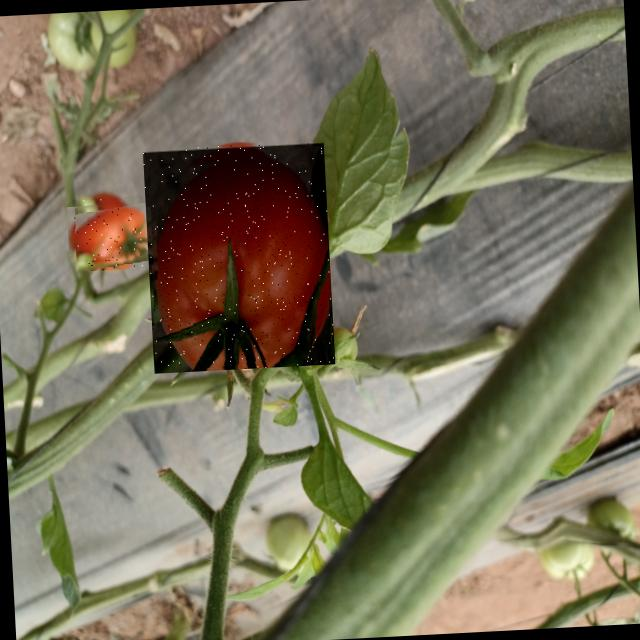Ripe Tomato: (143, 140, 335, 373), (72, 196, 147, 272)
